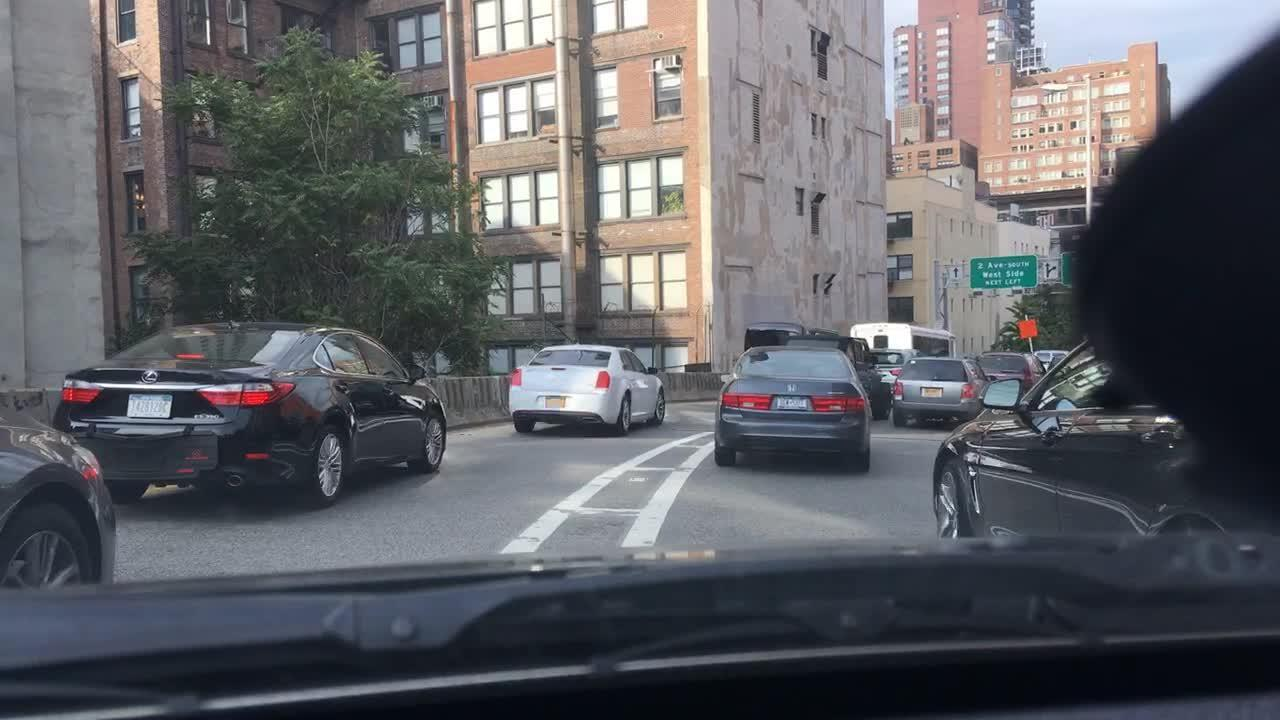Honda: (785, 381, 803, 394)
lexus: (138, 364, 160, 388)
